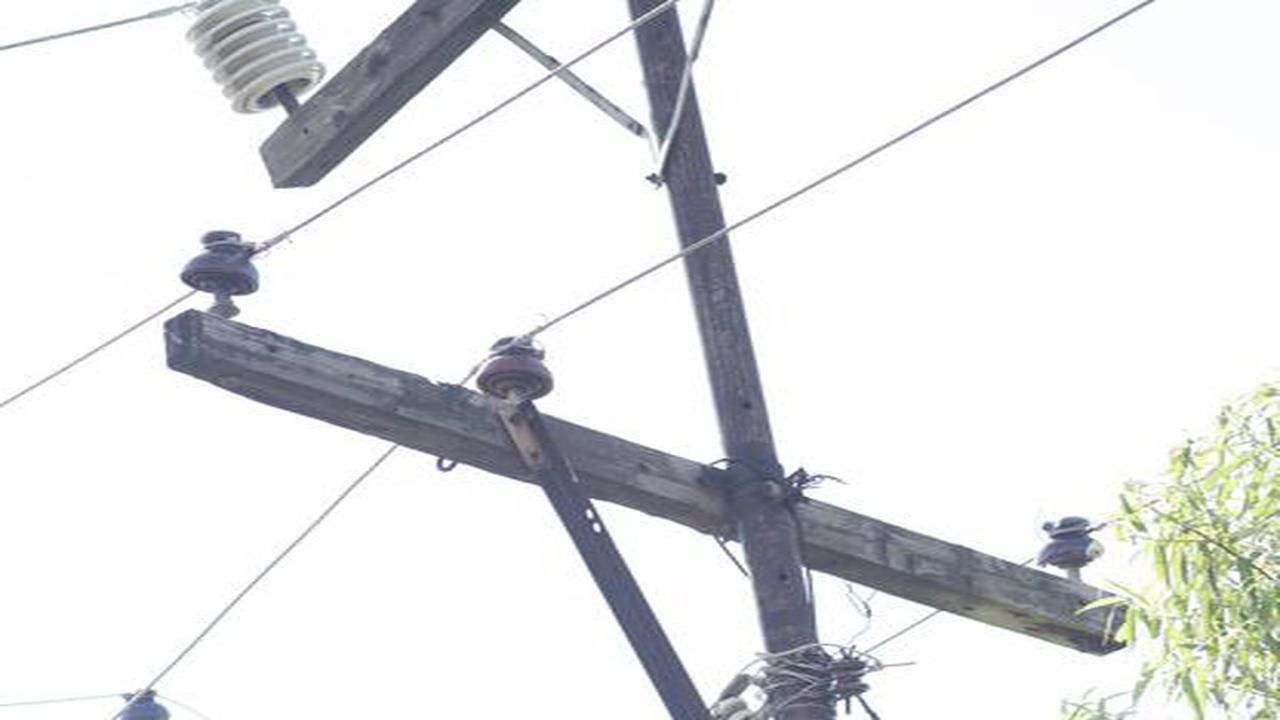defect_pin: (1030, 511, 1113, 576)
insulator_pin: (174, 221, 276, 311), (468, 332, 566, 409)
